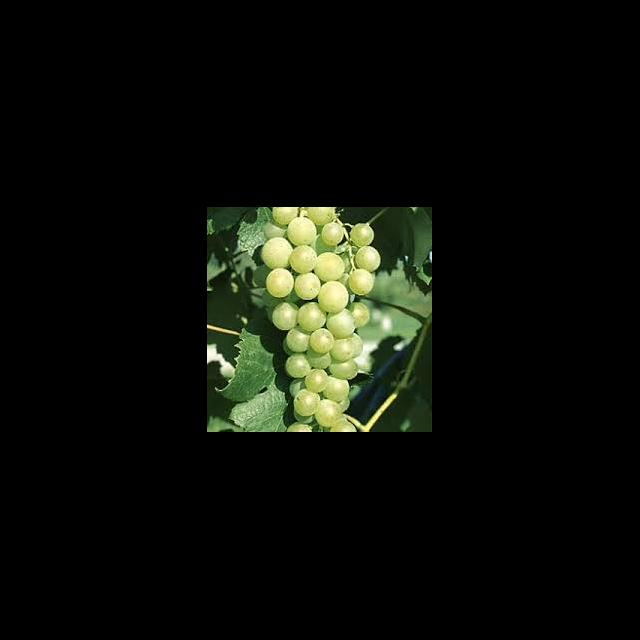grape: (260, 208, 382, 432)
